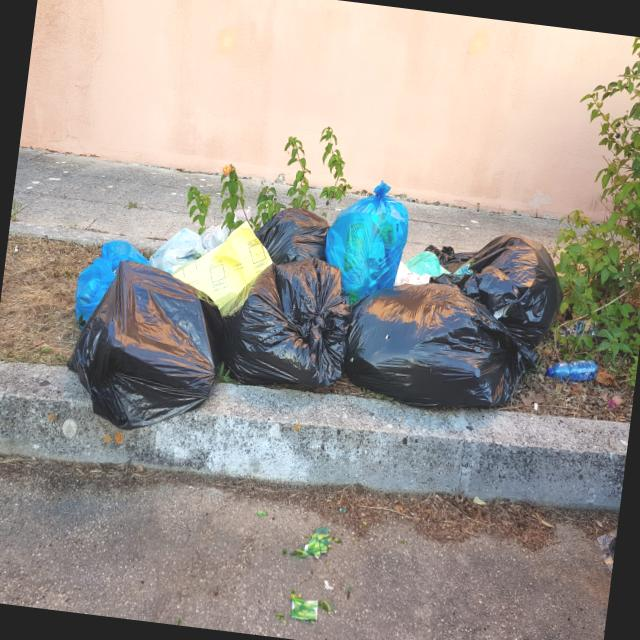garbage: (53, 133, 623, 486)
